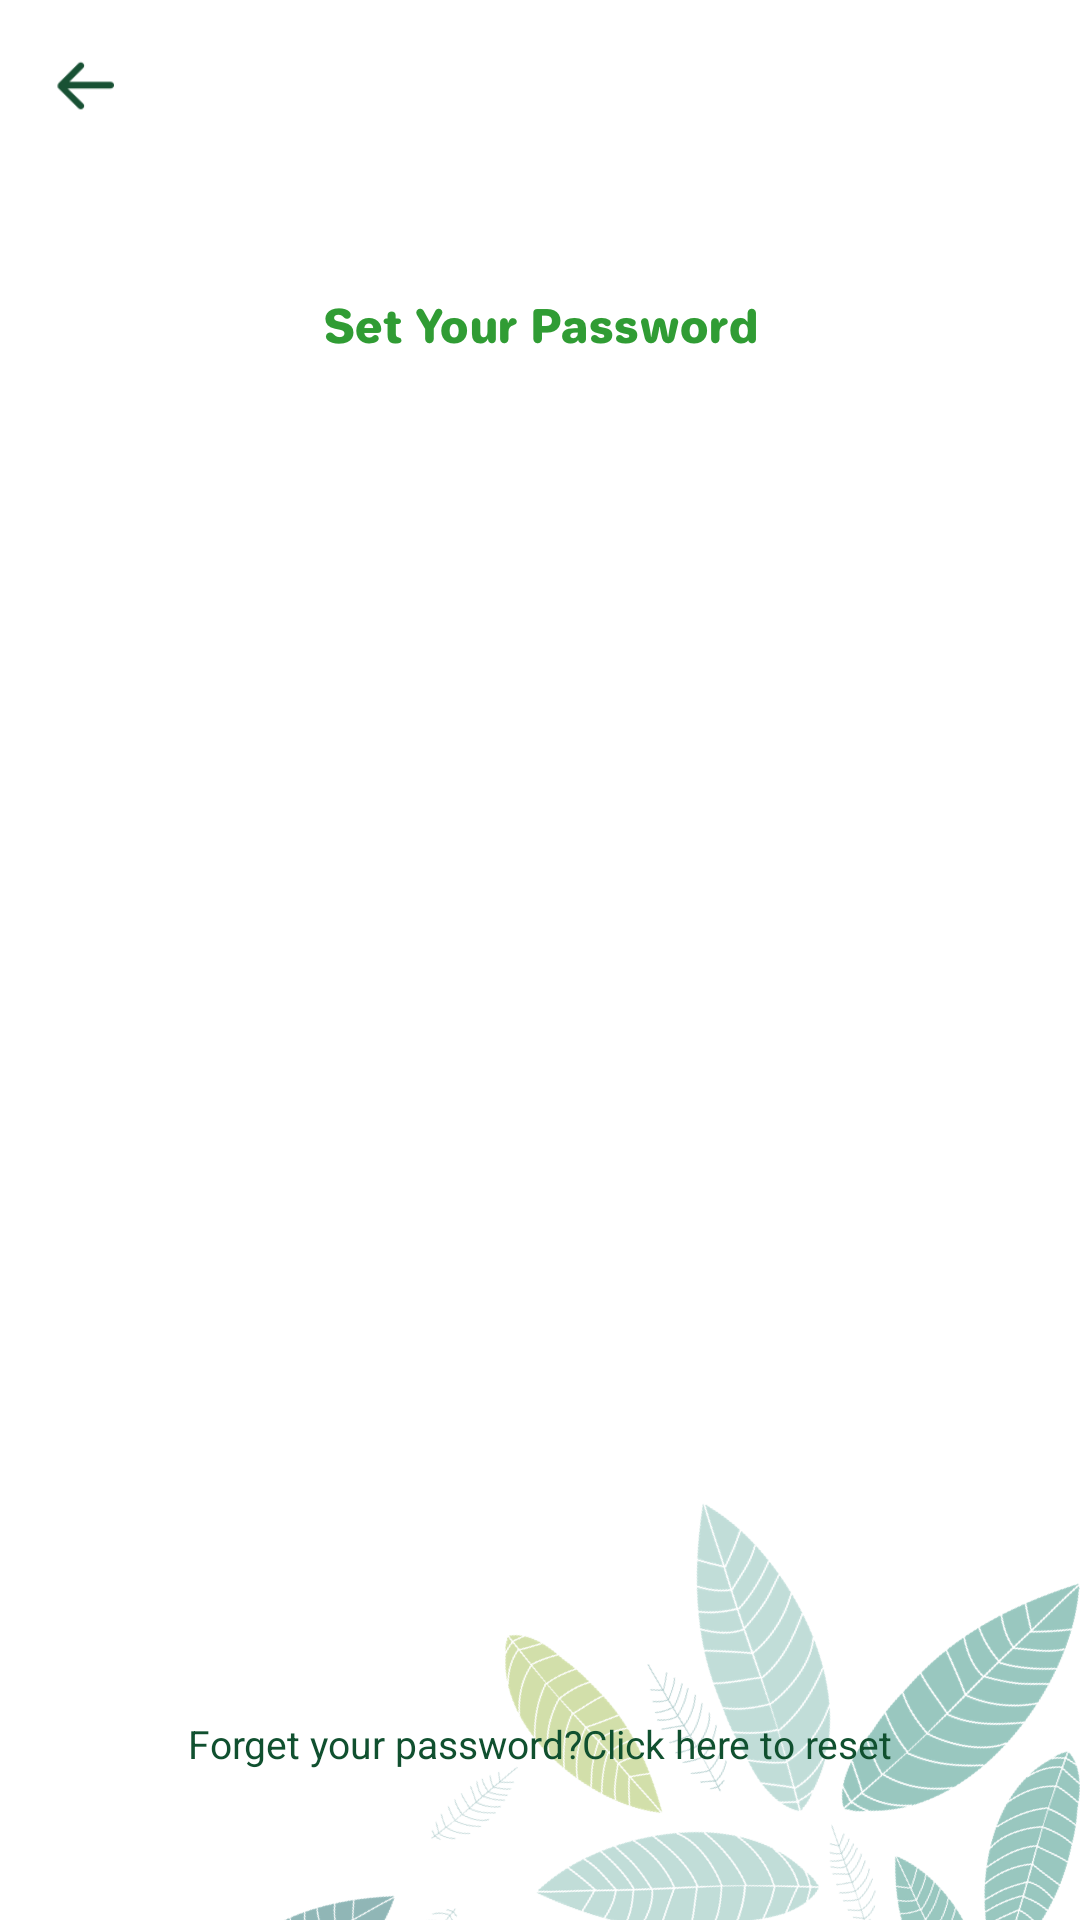

Icons on this 1080x1920 Android screen, each with its box as (x1, y1, x2, y2):
back: (57, 62, 114, 110)
